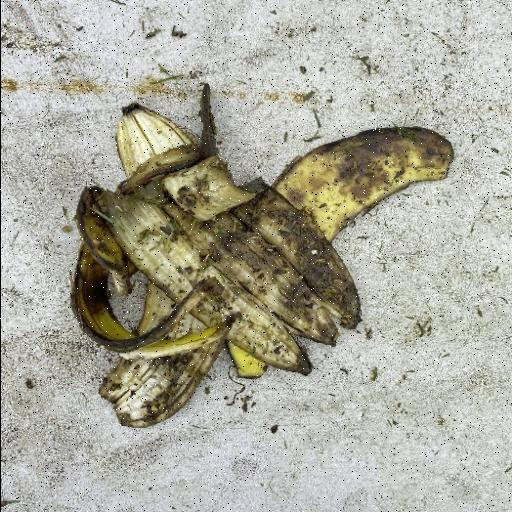Waste: (70, 82, 454, 429)
